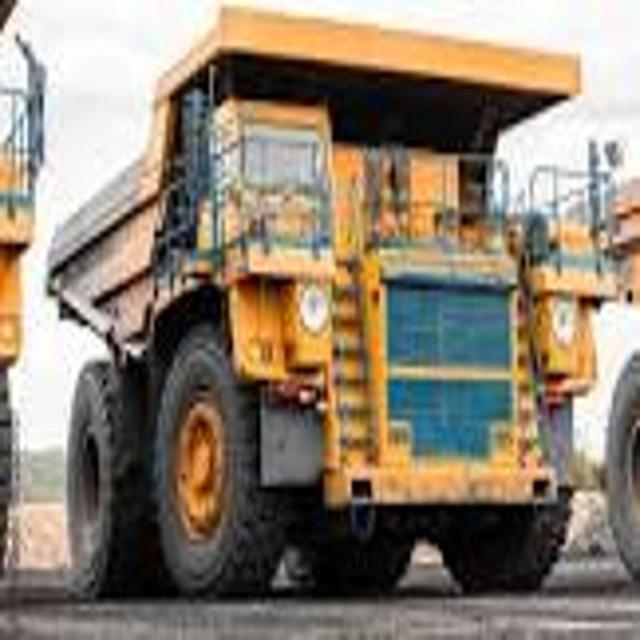dump_truck: (46, 0, 619, 634)
